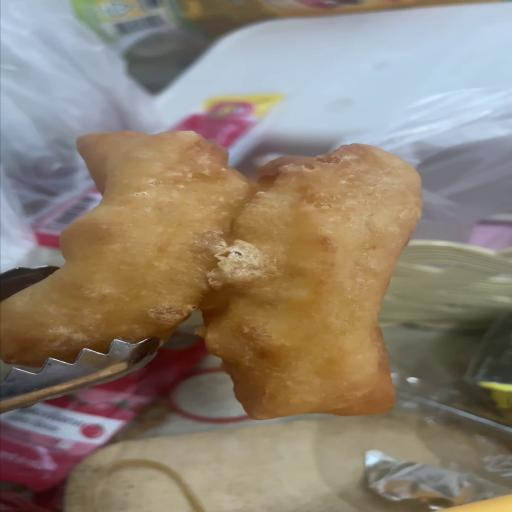street_golden_defect: (0, 134, 418, 421)
